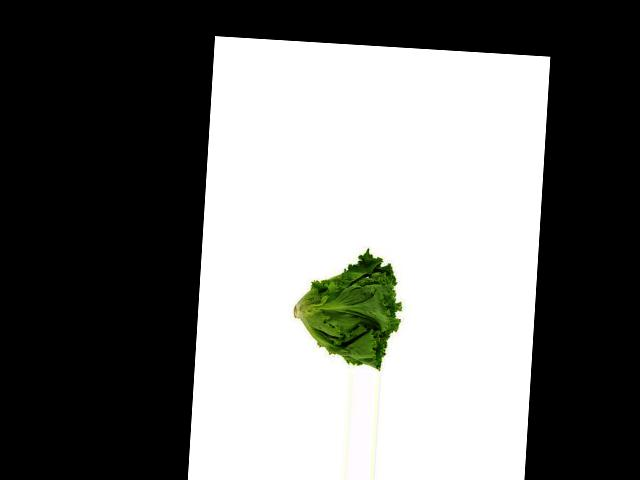lettuce: (300, 253, 398, 367)
